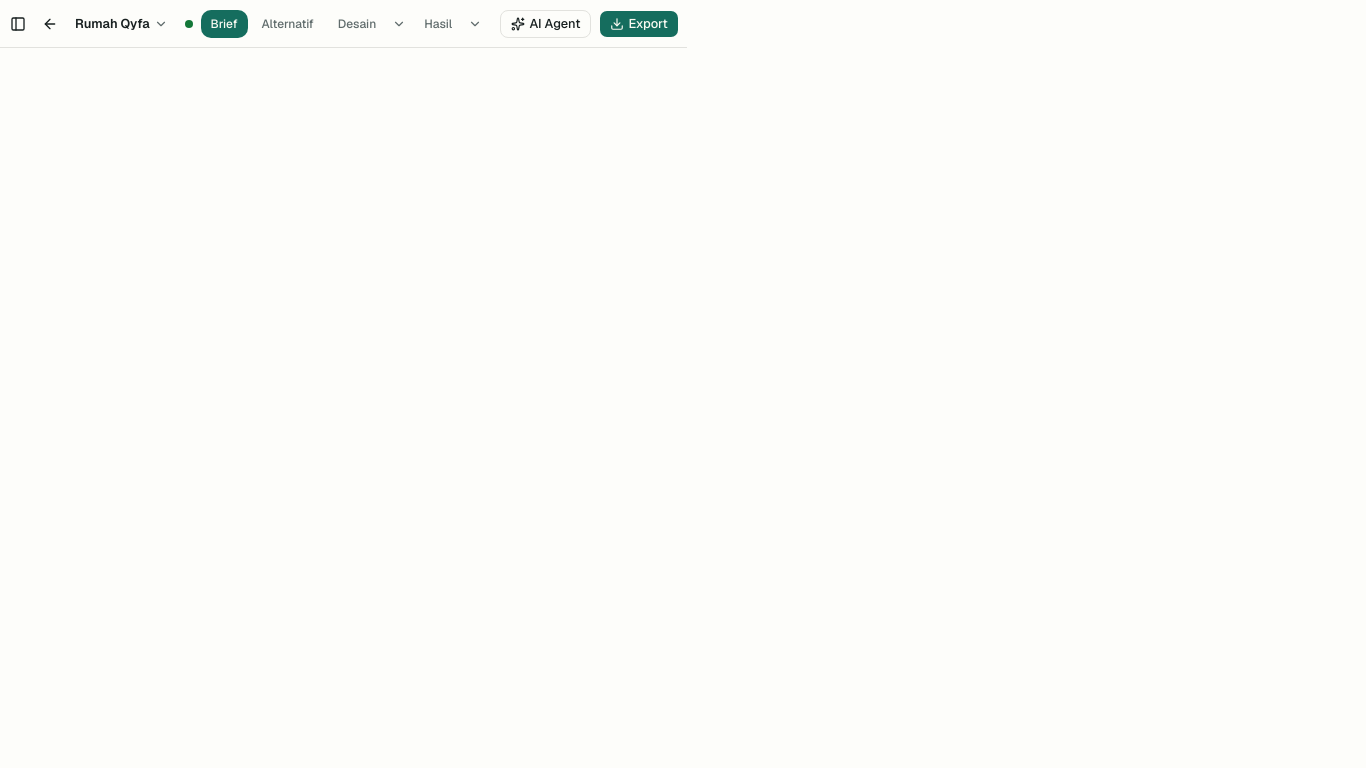
Test: ProjectBar — name dropdown (rename/bagikan/⌘K) › opens the share dialog with the public /s/[token] link (not the owner-only /review URL)
Press the mouse on the button with test id "project-name-menu-trigger" at (121, 24), box [68,10,175,38]
Click the button with test id "project-name-menu-trigger" at (121, 24), box [68,10,175,38]
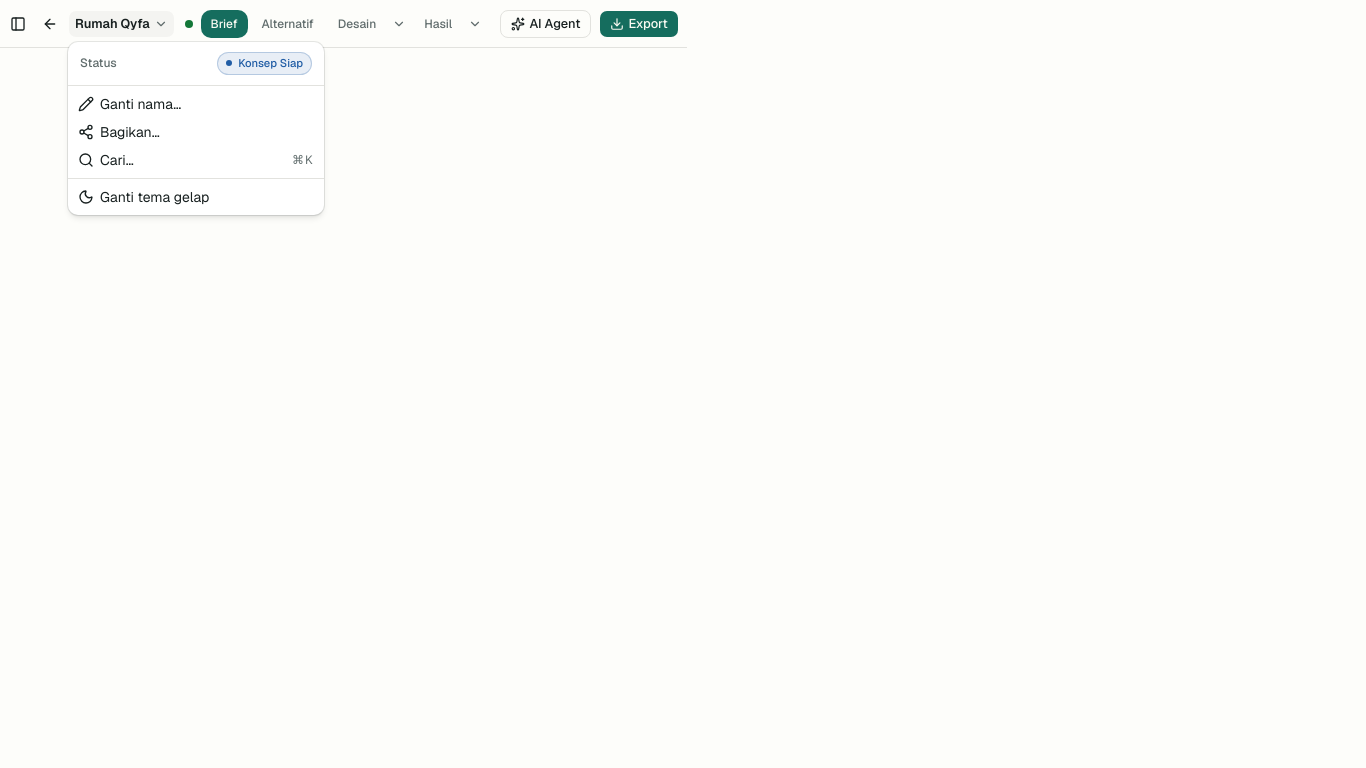
Click the menu item "Bagikan…" at (119, 132), box [78,123,160,141]
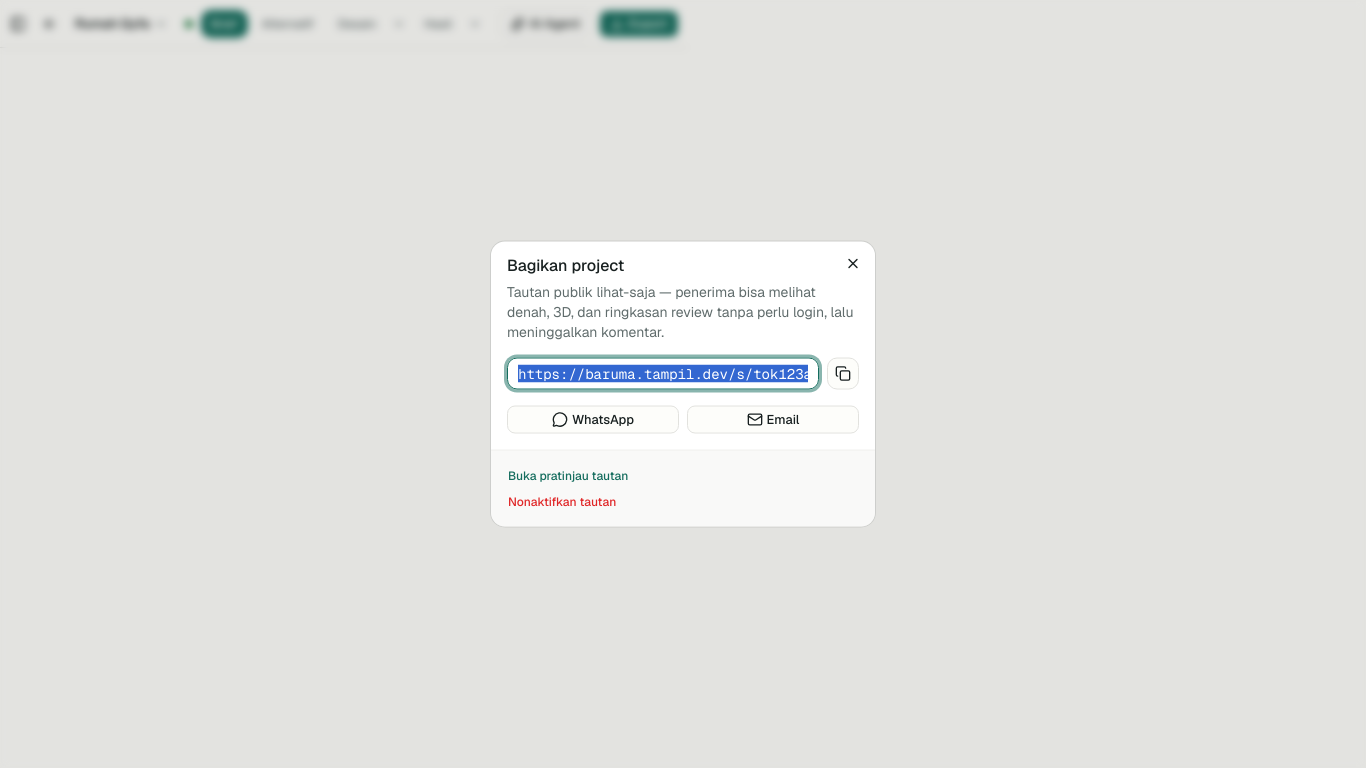
Expected: the heading "Bagikan project" is shown, [507,254,624,276]
Expected: the field showing "/s/tok123abc" is shown, [507,358,819,390]
